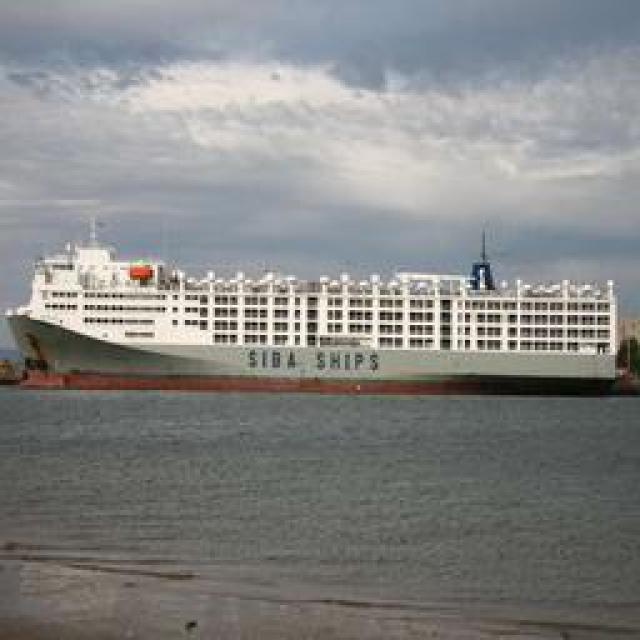Ship: (15, 225, 620, 393)
